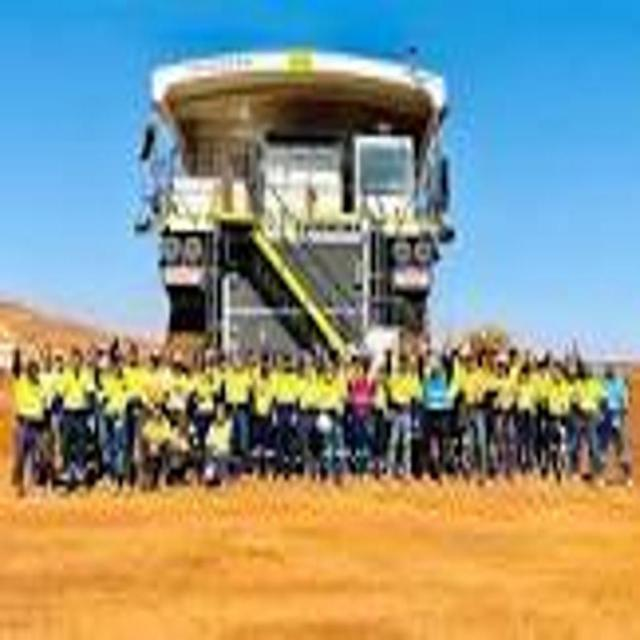dump_truck: (142, 28, 455, 363)
